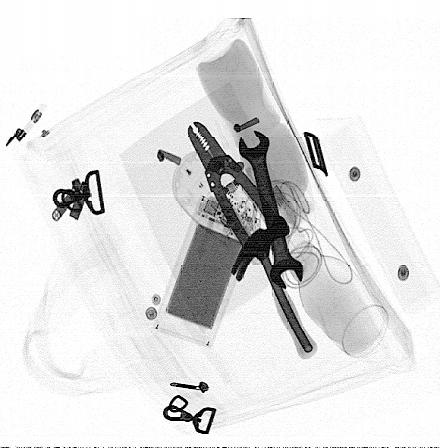Hammer: (231, 216, 318, 360)
Pliers: (188, 121, 287, 260)
Powerbank: (152, 195, 260, 350)
Wrench: (238, 130, 303, 289)
